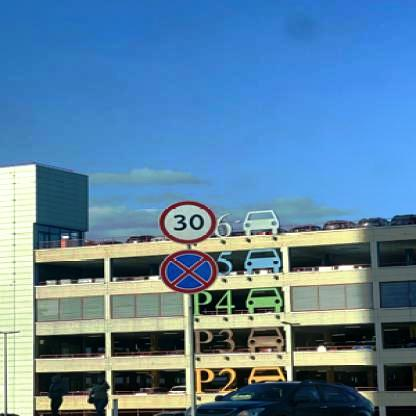Speed Limit -30-: (159, 201, 220, 245)
